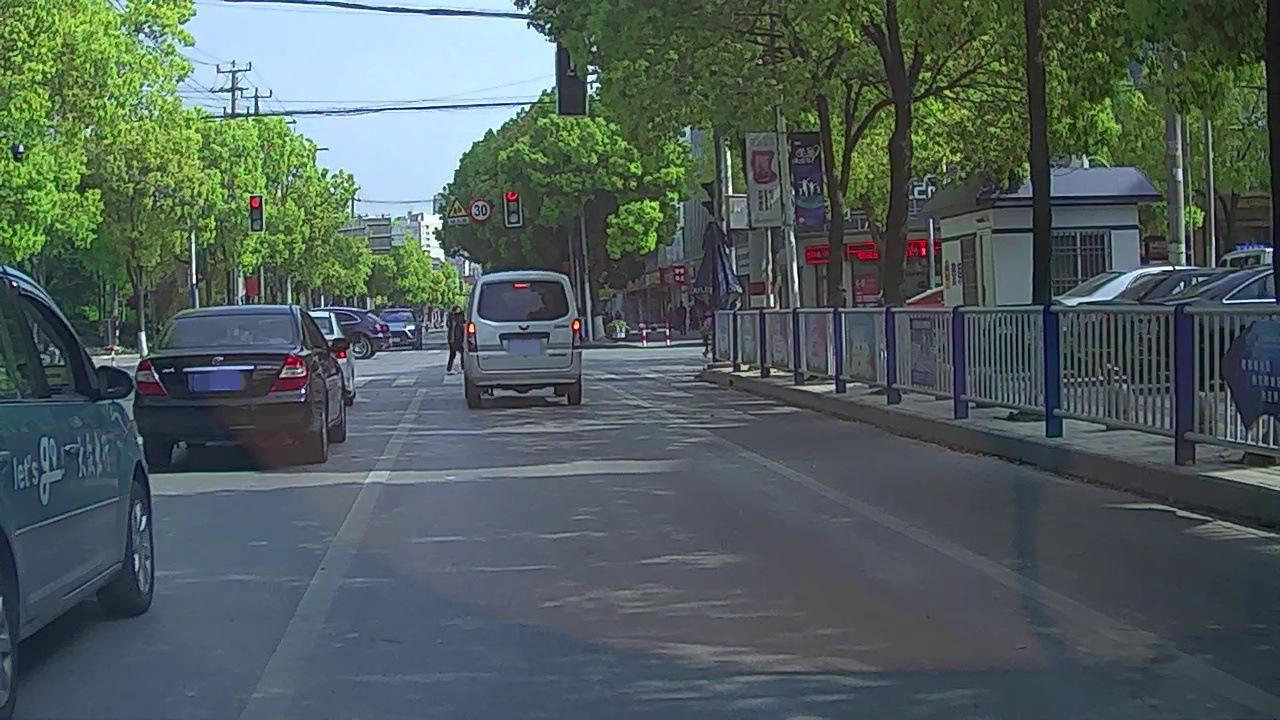traffic_light: (504, 188, 521, 226), (250, 195, 264, 232)
